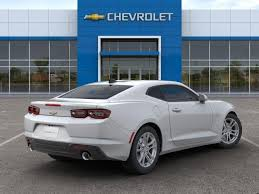car: (23, 77, 243, 174)
